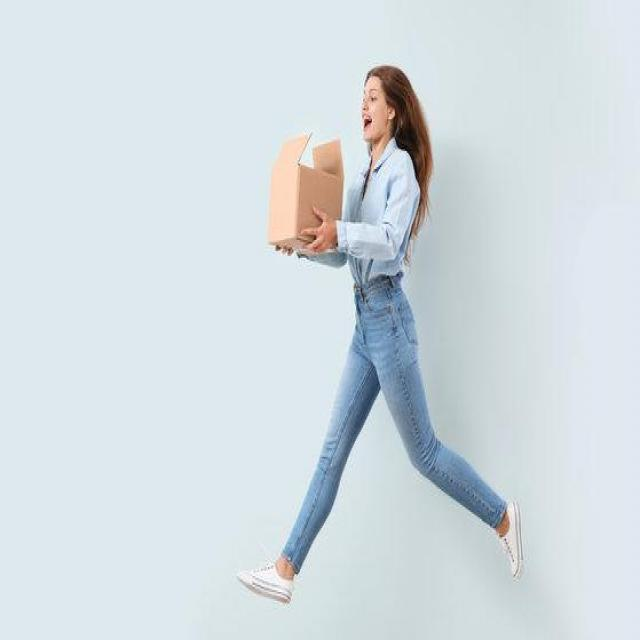box: (265, 133, 347, 258)
